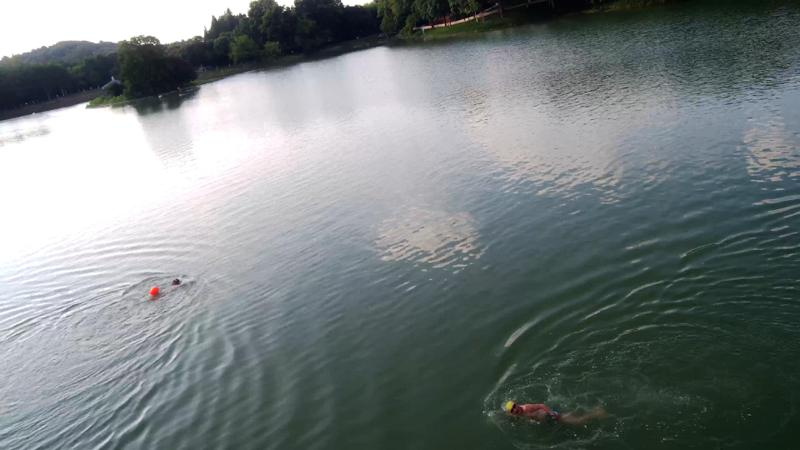swimmers: (503, 398, 603, 430)
